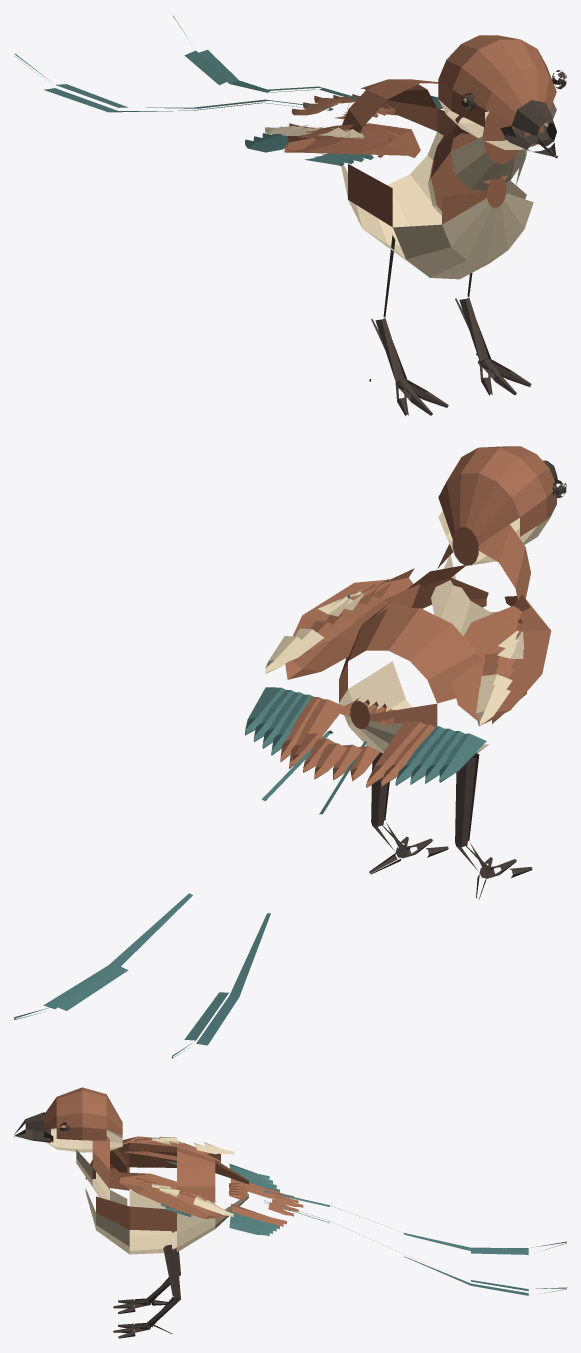
File: confuciusornis.glb
The picture shows the model from 3 angles, top to bottom: view 1: azimuth 30°, elevation 25°; view 2: azimuth 150°, elevation 25°; view 3: azimuth 270°, elevation 25°; orthographic projection. The views are drawn at different scales.
Parts seen in each view (by area): view 1: confuciusornis-plumage, confuciusornis-warm-breast, confuciusornis-quiet-dark, confuciusornis-accent; view 2: confuciusornis-plumage, confuciusornis-accent, confuciusornis-warm-breast, confuciusornis-quiet-dark; view 3: confuciusornis-plumage, confuciusornis-warm-breast, confuciusornis-accent, confuciusornis-quiet-dark.
Part boxes in pixels (x1,y1,x2,y2): confuciusornis-plumage: (281, 35, 556, 226); confuciusornis-warm-breast: (265, 74, 566, 279); confuciusornis-quiet-dark: (369, 70, 566, 415); confuciusornis-accent: (15, 15, 442, 166); confuciusornis-plumage: (280, 446, 556, 787); confuciusornis-accent: (14, 687, 486, 1058); confuciusornis-warm-breast: (265, 483, 566, 756); confuciusornis-quiet-dark: (369, 460, 566, 899); confuciusornis-plumage: (44, 1087, 303, 1231); confuciusornis-warm-breast: (46, 1126, 248, 1254); confuciusornis-accent: (156, 1161, 566, 1295); confuciusornis-quiet-dark: (14, 1112, 180, 1338).
Bounding box in the file's own units: 0.1431 × 0.2191 × 0.478.
